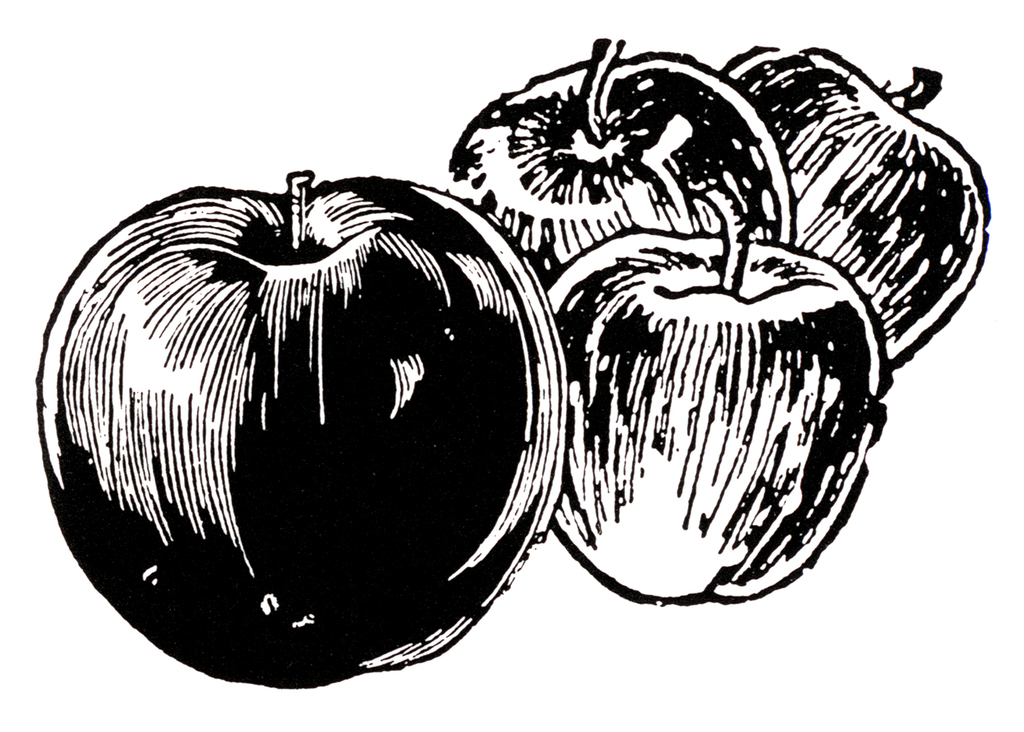Apple: (128, 190, 555, 696), (544, 185, 887, 605), (718, 39, 994, 369), (445, 35, 794, 290)
